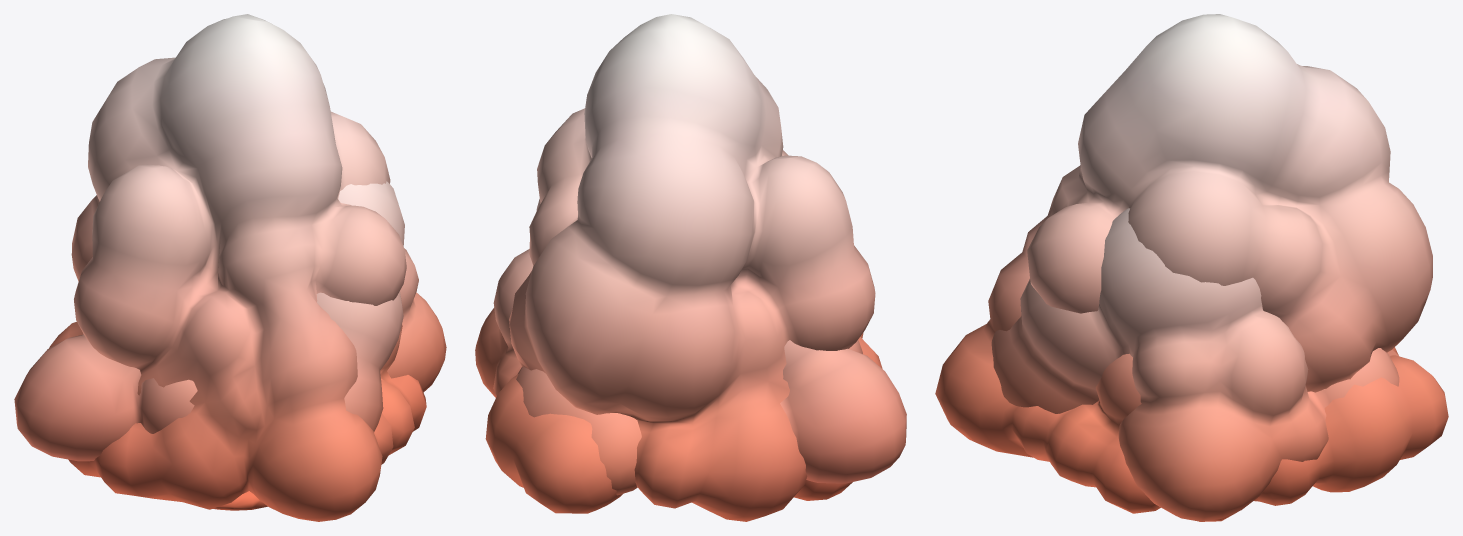
File: LOW-POLY CLOUDS.glb
3 renders of one model, left to right at view 1: azimuth 30°, elevation 25°; view 2: azimuth 150°, elevation 25°; view 3: azimuth 270°, elevation 25°, orthographic. The views are drawn at different scales.
Visible parts, largest first — view 1: clouds 1, clouds; view 2: clouds 1, clouds; view 3: clouds 1, clouds.
Part boxes in pixels (<box>): clouds 1: <box>49,14,426,521</box>; clouds: <box>14,181,446,510</box>; clouds 1: <box>485,14,882,521</box>; clouds: <box>475,199,906,495</box>; clouds 1: <box>935,14,1448,521</box>; clouds: <box>991,208,1399,521</box>.
Size of the model in its own units: 3.01 by 3.03 by 3.11.
Materials: 1 (1 with a texture image).
